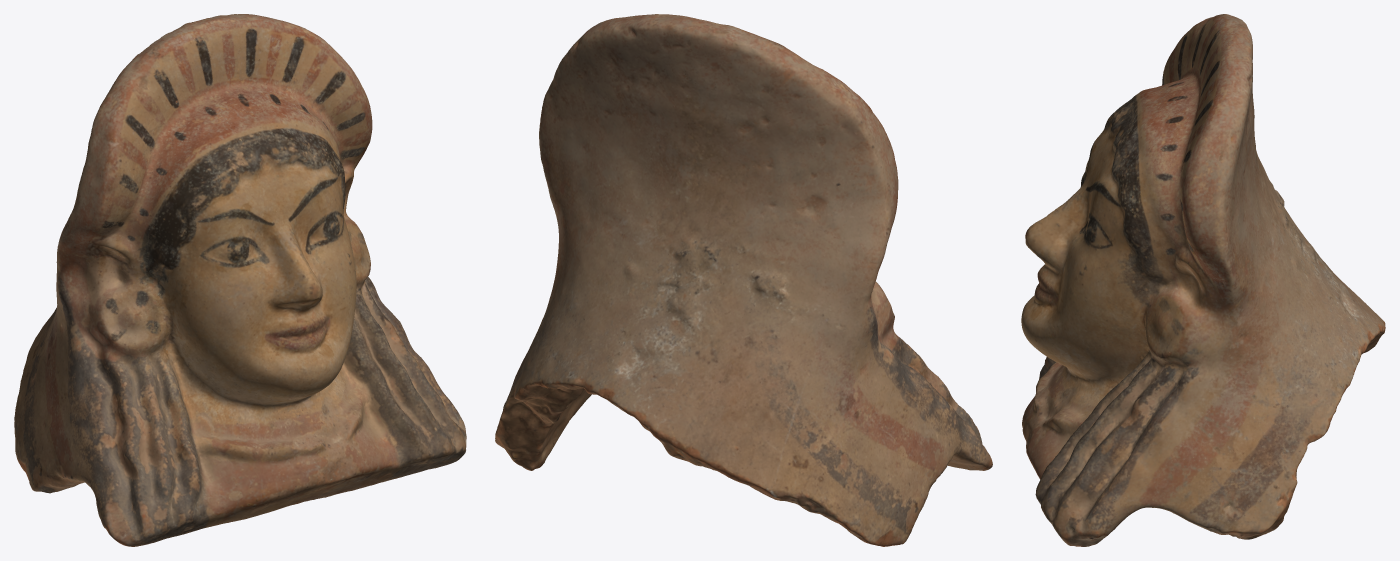
3 renders of one model, left to right at view 1: azimuth 30°, elevation 25°; view 2: azimuth 150°, elevation 25°; view 3: azimuth 270°, elevation 25°, orthographic. The views are drawn at different scales.
Visible parts, largest first — view 1: Object_2, Object_3; view 2: Object_2, Object_3; view 3: Object_2, Object_3.
Boxes of the visible parts, x1,y1,x2,y2 form: Object_2: (14,14,465,546); Object_3: (14,14,466,521); Object_2: (495,14,992,546); Object_3: (524,14,898,545); Object_2: (1022,14,1385,546); Object_3: (1021,15,1385,546).
Bounding box in the file's own units: 0.1881 × 0.2099 × 0.1594.
1 material, 1 textured.
